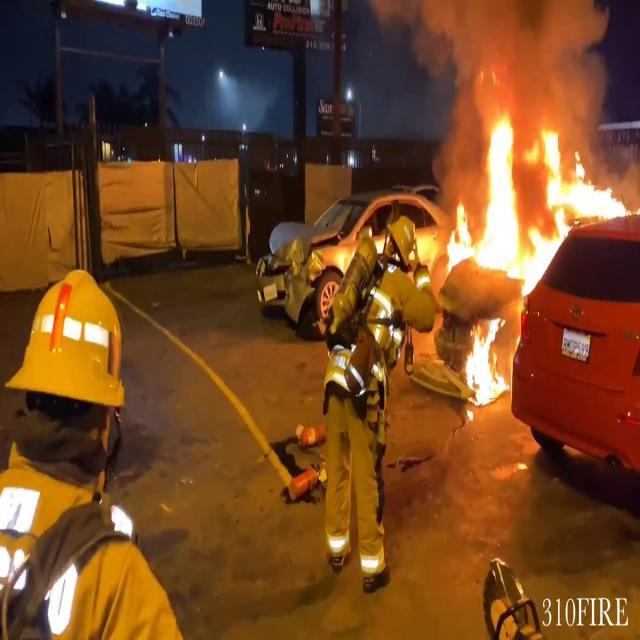Fire: (438, 103, 636, 289), (461, 315, 504, 409)
Smoke: (386, 1, 622, 122)
